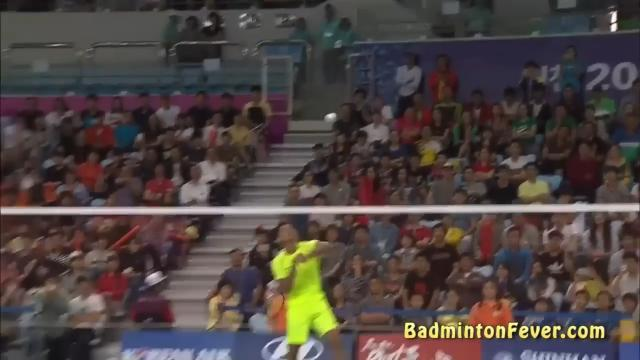Shuttlecock: (324, 111, 338, 125)
